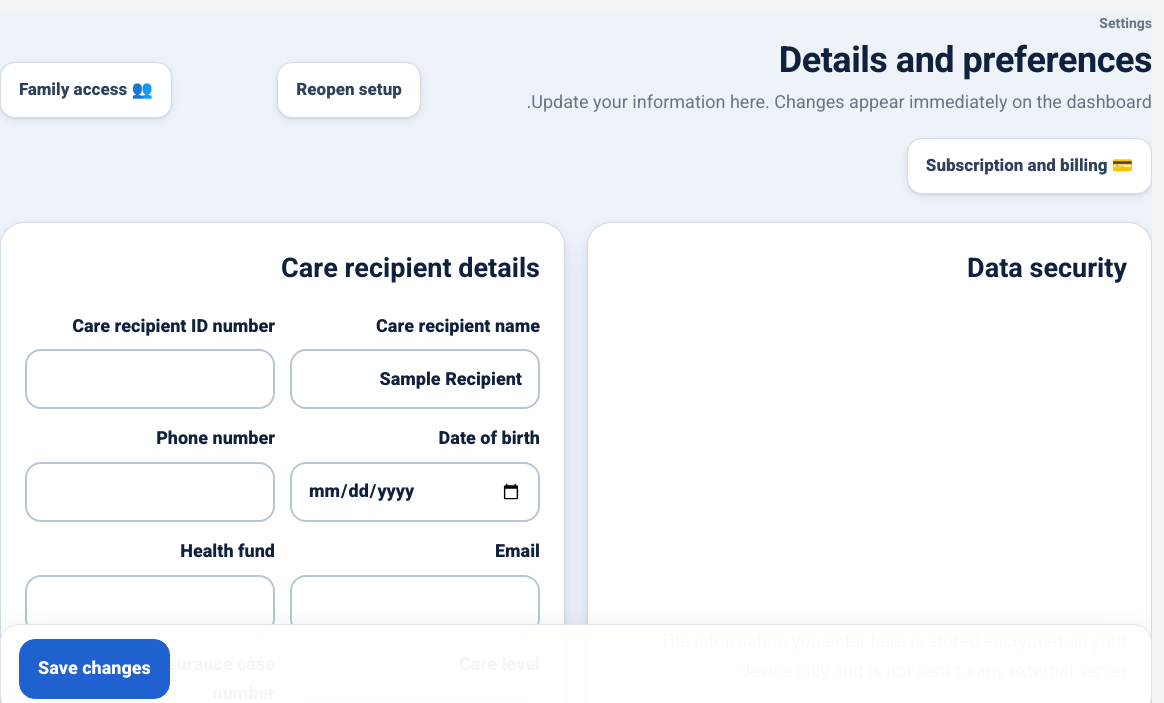
Test case: SettingsPage complete client profile › blocks saving an invalid client profile
Type "not-an-email" into the field labelled "Email" at (415, 605), box [290,575,540,635]
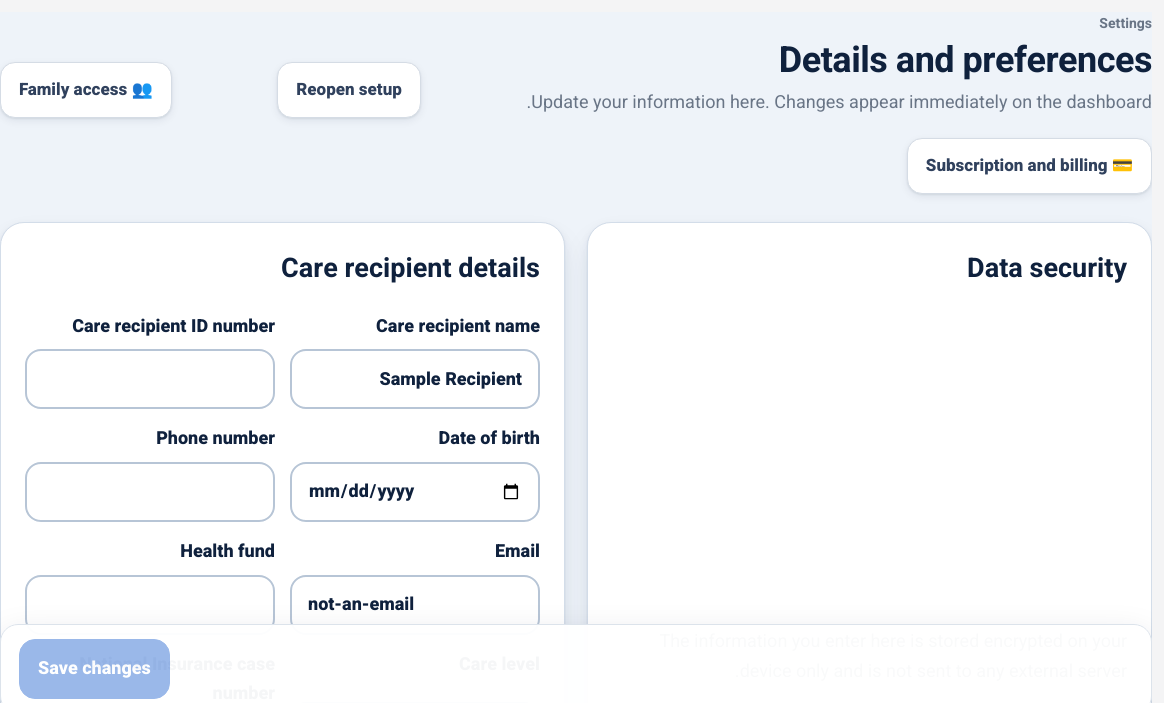
Check: the button "Save changes" is disabled, box [19,639,170,699]
